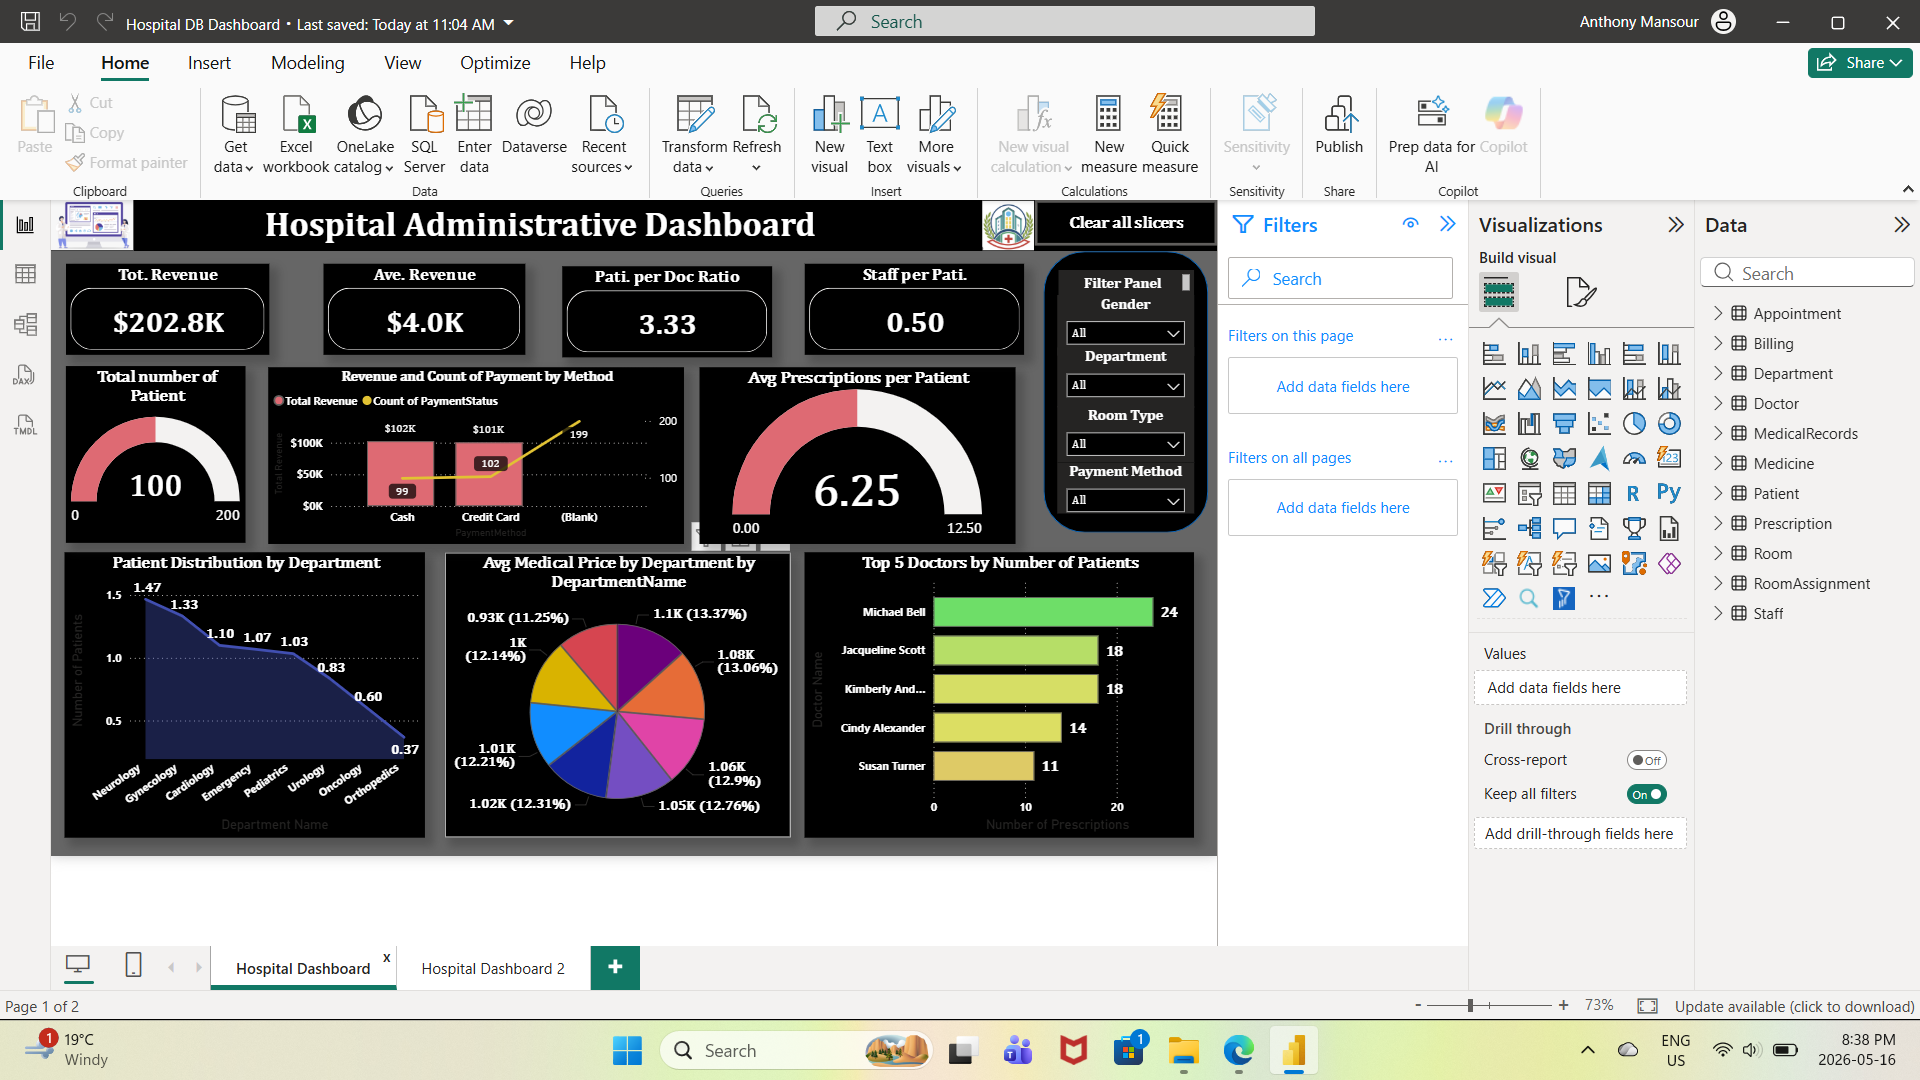

What the dashboard file says about the page in this screenshot:
{"tool":"powerbi","page":{"name":"Hospital Dashboard","canvas":[1280,720],"ordinal":0},"visuals":[{"type":"pieChart","fields":{"Category":["Department.DepartmentName"],"Y":["Medicine.Avg Medical Price by Department"]},"box":[432.6,386.7,379.8,313],"z":0},{"type":"cardVisual","title":"Pati. per Doc Ratio","fields":{"Data":["Patient.Patient-Doc Ratio"]},"box":[561.5,72.2,230.6,100.3],"z":3000},{"type":"gauge","fields":{"Y":["Prescription.Avg Prescriptions per Patient"]},"box":[712.2,183.6,346.4,193.4],"z":4000},{"type":"cardVisual","title":"Tot. Revenue","fields":{"Data":["Billing.Total Revenue"]},"box":[15.8,70.4,223.6,100.3],"z":5000},{"type":"cardVisual","title":"Staff per Pati.","fields":{"Data":["Staff.Staff per Patient"]},"box":[827.4,70.4,241.2,100.3],"z":6000},{"type":"cardVisual","title":"Ave. Revenue","fields":{"Data":["Billing.Avg Revenue per Patient"]},"box":[299.3,70.4,221.8,100.3],"z":7000},{"type":"lineStackedColumnComboChart","title":"Revenue and Count of Payment by Method","fields":{"Category":["Billing.PaymentMethod"],"Y2":["CountNonNull(Billing.PaymentStatus)"],"Y":["Billing.Total Revenue"]},"box":[239.3,183.6,456.3,193.4],"z":8000},{"type":"textbox","box":[0,0,1279.8,55.6],"z":10000},{"type":"barChart","title":"Top 5 Doctors by Number of Patients","fields":{"Category":["Doctor.DoctorName"],"Y":["Patient.Total Patient"]},"box":[827.7,386.7,427.1,313],"z":11000},{"type":"areaChart","title":"Patient Distribution by Department","fields":{"Category":["Department.DepartmentName"],"Y":["Patient.Patient-Doc Ratio"]},"box":[15.3,386.7,395.1,313],"z":12000},{"type":"shape","box":[1089.2,55.6,180.8,308.8],"z":13000},{"type":"textbox","box":[1105.9,76.5,148.8,27.8],"z":14000},{"type":"slicer","title":"Gender","fields":{"Values":["Patient.Gender"]},"box":[1104.5,104.3,150.2,66.8],"z":15000},{"type":"slicer","title":"Department","fields":{"Values":["Department.DepartmentName"]},"box":[1104.5,161.4,150.2,65.4],"z":16000},{"type":"slicer","title":"Room Type","fields":{"Values":["Room.RoomType"]},"box":[1104.5,226.7,150.2,61.2],"z":17000},{"type":"slicer","title":"Payment Method","fields":{"Values":["Billing.PaymentMethod"]},"box":[1104.5,288,150.2,55.6],"z":18000},{"type":"actionButton","box":[1079.5,0,200.3,50.1],"z":19000},{"type":"image","box":[0,0,90.1,55.6],"z":20000},{"type":"image","box":[1022.5,0,57,55.6],"z":21000},{"type":"gauge","title":"Total number of Patient","fields":{"Y":["Patient.Total Patient"]},"box":[15.8,183.1,197.2,193.6],"z":21002}]}

Visuals, with their boxes on the page's 1280x720 design canvas (x1, y1, x2, y2). These are canvas units, not pixel positions in the 1920x1080 screenshot, which may show the page scaled, cropped or inside an application window:
pieChart - Department.DepartmentName x Medicine.Avg Medical Price by Department: bbox(433, 387, 812, 700)
"Pati. per Doc Ratio" cardVisual: bbox(562, 72, 792, 172)
gauge - Prescription.Avg Prescriptions per Patient: bbox(712, 184, 1059, 377)
"Tot. Revenue" cardVisual: bbox(16, 70, 239, 171)
"Staff per Pati." cardVisual: bbox(827, 70, 1069, 171)
"Ave. Revenue" cardVisual: bbox(299, 70, 521, 171)
"Revenue and Count of Payment by Method" lineStackedColumnComboChart: bbox(239, 184, 696, 377)
textbox: bbox(0, 0, 1280, 56)
"Top 5 Doctors by Number of Patients" barChart: bbox(828, 387, 1255, 700)
"Patient Distribution by Department" areaChart: bbox(15, 387, 410, 700)
shape: bbox(1089, 56, 1270, 364)
textbox: bbox(1106, 76, 1255, 104)
"Gender" slicer: bbox(1104, 104, 1255, 171)
"Department" slicer: bbox(1104, 161, 1255, 227)
"Room Type" slicer: bbox(1104, 227, 1255, 288)
"Payment Method" slicer: bbox(1104, 288, 1255, 344)
actionButton: bbox(1080, 0, 1280, 50)
image: bbox(0, 0, 90, 56)
image: bbox(1022, 0, 1080, 56)
"Total number of Patient" gauge: bbox(16, 183, 213, 377)
